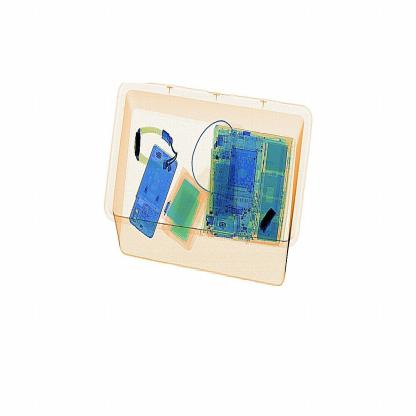scissors: (261, 208, 287, 246)
